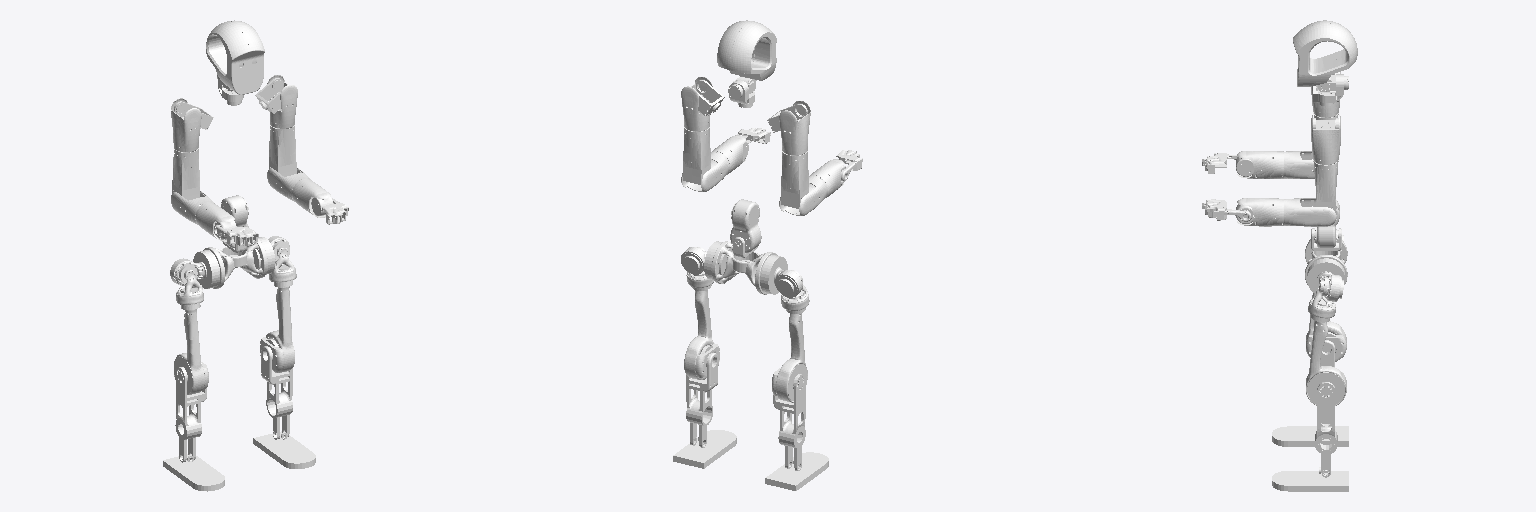
--- Facts derived from the render (not from the file) ---
The picture shows the robot from 3 angles, left to right: view 1: azimuth 30°, elevation 25°; view 2: azimuth 150°, elevation 25°; view 3: azimuth 270°, elevation 25°; orthographic projection.
Robot: Taks_T1 — 33 links, 32 joints (32 revolute); root link pelvis; default pose: every joint at zero.
Visible links, largest first — view 1: neck_pitch_link, pelvis, right_knee_link, left_knee_link, left_hip_yaw_link, right_hip_yaw_link, left_ankle_roll_link, right_ankle_roll_link, right_shoulder_yaw_link, left_shoulder_yaw_link, right_shoulder_roll_link, left_shoulder_roll_link (+10 smaller); view 2: neck_pitch_link, pelvis, right_knee_link, left_knee_link, left_hip_yaw_link, right_hip_yaw_link, left_ankle_roll_link, right_shoulder_yaw_link, left_shoulder_yaw_link, right_ankle_roll_link, right_shoulder_roll_link, waist_roll_link (+9 smaller); view 3: neck_pitch_link, left_hip_yaw_link, left_ankle_roll_link, left_knee_link, pelvis, left_elbow_link, right_ankle_roll_link, left_shoulder_roll_link, left_wrist_roll_link, right_wrist_roll_link, left_shoulder_yaw_link, right_elbow_link (+5 smaller).
Link boxes in pixels (x1,y1,x2,y2): neck_pitch_link: (206, 20, 264, 94); pelvis: (193, 237, 274, 288); right_knee_link: (175, 367, 206, 462); left_knee_link: (261, 346, 292, 439); left_hip_yaw_link: (260, 286, 294, 372); right_hip_yaw_link: (174, 309, 208, 394); left_ankle_roll_link: (253, 431, 315, 468); right_ankle_roll_link: (163, 454, 224, 491); right_shoulder_yaw_link: (172, 148, 199, 200); left_shoulder_yaw_link: (269, 125, 296, 176); right_shoulder_roll_link: (171, 98, 201, 151); left_shoulder_roll_link: (267, 75, 297, 128); neck_pitch_link: (717, 20, 776, 83); pelvis: (704, 241, 787, 294); right_knee_link: (773, 374, 805, 470); left_knee_link: (686, 353, 717, 447); left_hip_yaw_link: (684, 290, 719, 379); right_hip_yaw_link: (772, 313, 807, 402); left_ankle_roll_link: (673, 430, 736, 468); right_shoulder_yaw_link: (781, 151, 808, 208); left_shoulder_yaw_link: (683, 127, 710, 184); right_ankle_roll_link: (765, 452, 828, 490); right_shoulder_roll_link: (779, 101, 810, 154); waist_roll_link: (730, 199, 761, 252); neck_pitch_link: (1293, 20, 1357, 91); left_hip_yaw_link: (1306, 321, 1346, 405); left_ankle_roll_link: (1272, 471, 1348, 491); left_knee_link: (1315, 382, 1337, 477); pelvis: (1305, 234, 1347, 293); left_elbow_link: (1284, 198, 1336, 226); right_ankle_roll_link: (1272, 426, 1348, 446); left_shoulder_roll_link: (1311, 115, 1340, 164); left_wrist_roll_link: (1237, 198, 1283, 226); right_wrist_roll_link: (1237, 151, 1283, 178); left_shoulder_yaw_link: (1313, 160, 1338, 212); right_elbow_link: (1284, 151, 1314, 178).
Bounding box of the posed robot: 0.4406 × 0.4871 × 1.52 m (x, y, z).
Meshes: 33 distinct files referenced, 32 mesh visuals loaded (32 binary STL); not drawn: 1 (reference not matched to a file when rendering).

URDF robot description (Taks_T1):
<robot name="Taks_T1">
  <mujoco>
    <compiler meshdir="meshes" discardvisual="false"/>
  </mujoco>

  <!-- [CAUTION] uncomment when convert to mujoco -->
  <!-- <link name="world"></link>
  <joint name="floating_base_joint" type="floating">
    <parent link="world"/>
    <child link="pelvis"/>
  </joint> -->

  <link name="pelvis">
    <inertial>
      <origin xyz="0.0 -0.05192 0.0" rpy="0 0 0"/>
      <mass value="3.2"/>
      <inertia ixx="0.0166667" ixy="0.0" ixz="0.0" iyy="0.0201067" iyz="0.0" izz="0.0247733"/>
    </inertial>
    <visual>
      <origin xyz="0 0 0" rpy="0 0 0"/>
      <geometry>
        <mesh filename="meshes/pelvis.STL"/>
      </geometry>
      <material name="white">
        <color rgba="1.0 1.0 1.0 1.0"/>
      </material>
    </visual>
    <collision>
      <origin xyz="0 0 0" rpy="0 0 0"/>
      <geometry>
        <mesh filename="meshes/pelvis.STL"/>
      </geometry>
      <mujoco>
        <geom contype="2" conaffinity="1"/>
      </mujoco>
    </collision>
  </link>

  <!-- Legs -->
  <link name="left_hip_pitch_link">
    <inertial>
      <origin xyz="-0.02022 0.04885 -0.00359" rpy="0 0 0"/>
      <mass value="0.685"/>
      <inertia ixx="0.000776333" ixy="0.0" ixz="0.0" iyy="0.000570833" iyz="0.0" izz="0.000936167"/>
    </inertial>
    <visual>
      <origin xyz="0 0 0" rpy="0 0 0"/>
      <geometry>
        <mesh filename="meshes/left_hip_pitch_link.STL"/>
      </geometry>
      <material name="white">
        <color rgba="1.0 1.0 1.0 1.0"/>
      </material>
    </visual>
    <collision>
      <origin xyz="0 0 0" rpy="0 0 0"/>
      <geometry>
        <mesh filename="meshes/left_hip_pitch_link.STL"/>
      </geometry>
    </collision>
  </link>
  <joint name="left_hip_pitch_joint" type="revolute">
    <origin xyz="0.115 0.0 -0.0523" rpy="0.0 0.0 -1.5707963267948966"/>
    <parent link="pelvis"/>
    <child link="left_hip_pitch_link"/>
    <axis xyz="0.0 1.0 0.0"/>
    <limit lower="-2.5307" upper="2.8798" effort="120.0" velocity="7.33"/>
  </joint>

  <link name="left_hip_roll_link">
    <inertial>
      <origin xyz="-0.00668 -0.00027 -0.0695" rpy="0 0 0"/>
      <mass value="0.93"/>
      <inertia ixx="0.001612" ixy="0.0" ixz="0.0" iyy="0.001612" iyz="0.0" izz="0.000992"/>
    </inertial>
    <visual>
      <origin xyz="0 0 0" rpy="0 0 0"/>
      <geometry>
        <mesh filename="meshes/left_hip_roll_link.STL"/>
      </geometry>
      <material name="white">
        <color rgba="1.0 1.0 1.0 1.0"/>
      </material>
    </visual>
    <collision>
      <origin xyz="0 0 0" rpy="0 0 0"/>
      <geometry>
        <mesh filename="meshes/left_hip_roll_link.STL"/>
      </geometry>
    </collision>
  </link>
  <joint name="left_hip_roll_joint" type="revolute">
    <origin xyz="0.007945 0.053348 0.001351" rpy="0.0 -0.1745333851200459 0.0"/>
    <parent link="left_hip_pitch_link"/>
    <child link="left_hip_roll_link"/>
    <axis xyz="1.0 0.0 0.0"/>
    <limit lower="-0.5236" upper="2.9671" effort="97.0" velocity="4.19"/>
  </joint>

  <link name="left_hip_yaw_link">
    <inertial>
      <origin xyz="-0.048416 -0.008192 -0.200621" rpy="0 0 0"/>
      <mass value="1.74"/>
      <inertia ixx="0.014616" ixy="0.0" ixz="0.0" iyy="0.014616" iyz="0.0" izz="0.003132"/>
    </inertial>
    <visual>
      <origin xyz="0 0 0" rpy="0 0 0"/>
      <geometry>
        <mesh filename="meshes/left_hip_yaw_link.STL"/>
      </geometry>
      <material name="white">
        <color rgba="1.0 1.0 1.0 1.0"/>
      </material>
    </visual>
    <collision>
      <origin xyz="0 0 0" rpy="0 0 0"/>
      <geometry>
        <mesh filename="meshes/left_hip_yaw_link.STL"/>
      </geometry>
    </collision>
  </link>
  <joint name="left_hip_yaw_joint" type="revolute">
    <origin xyz="-0.008293 0.0 -0.10937" rpy="0 0 0"/>
    <parent link="left_hip_roll_link"/>
    <child link="left_hip_yaw_link"/>
    <axis xyz="0.0 0.0 1.0"/>
    <limit lower="-2.7576" upper="2.7576" effort="97.0" velocity="4.19"/>
  </joint>

  <link name="left_knee_link">
    <inertial>
      <origin xyz="0.0 -0.0248 -0.115572" rpy="0 0 0"/>
      <mass value="0.63"/>
      <inertia ixx="0.004977" ixy="0.0" ixz="0.0" iyy="0.004977" iyz="0.0" izz="0.000504"/>
    </inertial>
    <visual>
      <origin xyz="0 0 0" rpy="0 0 0"/>
      <geometry>
        <mesh filename="meshes/left_knee_link.STL"/>
      </geometry>
      <material name="white">
        <color rgba="1.0 1.0 1.0 1.0"/>
      </material>
    </visual>
    <collision>
      <origin xyz="0 0 0" rpy="0 0 0"/>
      <geometry>
        <mesh filename="meshes/left_knee_link.STL"/>
      </geometry>
    </collision>
  </link>
  <joint name="left_knee_joint" type="revolute">
    <origin xyz="-0.060138 0.016849 -0.23297" rpy="0.0 0.17453338512004613 0.0"/>
    <parent link="left_hip_yaw_link"/>
    <child link="left_knee_link"/>
    <axis xyz="0.0 1.0 0.0"/>
    <limit lower="-0.087267" upper="2.8798" effort="120.0" velocity="7.33"/>
  </joint>

  <link name="left_ankle_pitch_link">
    <inertial>
      <origin xyz="0.019984 0.0 0.0" rpy="0 0 0"/>
      <mass value="0.001837"/>
      <inertia ixx="1.6533e-07" ixy="0.0" ixz="0.0" iyy="1.6533e-07" iyz="0.0" izz="1.6533e-07"/>
    </inertial>
    <visual>
      <origin xyz="0 0 0" rpy="0 0 0"/>
      <geometry>
        <mesh filename="meshes/left_ankle_pitch_link.STL"/>
      </geometry>
      <material name="white">
        <color rgba="1.0 1.0 1.0 1.0"/>
      </material>
    </visual>
    <collision>
      <origin xyz="0 0 0" rpy="0 0 0"/>
      <geometry>
        <mesh filename="meshes/left_ankle_pitch_link.STL"/>
      </geometry>
    </collision>
  </link>
  <joint name="left_ankle_pitch_joint" type="revolute">
    <origin xyz="0.0 -0.015197 -0.28503" rpy="0 0 0"/>
    <parent link="left_knee_link"/>
    <child link="left_ankle_pitch_link"/>
    <axis xyz="0.0 1.0 0.0"/>
    <limit lower="-0.87267" upper="0.5236" effort="27.0" velocity="3.77"/>
  </joint>

  <link name="left_ankle_roll_link">
    <inertial>
      <origin xyz="0.025052 -0.005381 -0.04" rpy="0 0 0"/>
      <mass value="0.56"/>
      <inertia ixx="0.000415333" ixy="0.0" ixz="0.0" iyy="0.00146533" iyz="0.0" izz="0.00164733"/>
    </inertial>
    <visual>
      <origin xyz="0 0 0" rpy="0 0 0"/>
      <geometry>
        <mesh filename="meshes/left_ankle_roll_link.STL"/>
      </geometry>
      <material name="white">
        <color rgba="1.0 1.0 1.0 1.0"/>
      </material>
    </visual>
  </link>
  <joint name="left_ankle_roll_joint" type="revolute">
    <origin xyz="0.02 0.0 0.0" rpy="0 0 0"/>
    <parent link="left_ankle_pitch_link"/>
    <child link="left_ankle_roll_link"/>
    <axis xyz="1.0 0.0 0.0"/>
    <limit lower="-0.2618" upper="0.2618" effort="27.0" velocity="3.77"/>
  </joint>

  <link name="right_hip_pitch_link">
    <inertial>
      <origin xyz="-0.02022 -0.04886 -0.00359" rpy="0 0 0"/>
      <mass value="0.685"/>
      <inertia ixx="0.000776333" ixy="0.0" ixz="0.0" iyy="0.000570833" iyz="0.0" izz="0.000936167"/>
    </inertial>
    <visual>
      <origin xyz="0 0 0" rpy="0 0 0"/>
      <geometry>
        <mesh filename="meshes/right_hip_pitch_link.STL"/>
      </geometry>
      <material name="white">
        <color rgba="1.0 1.0 1.0 1.0"/>
      </material>
    </visual>
    <collision>
      <origin xyz="0 0 0" rpy="0 0 0"/>
      <geometry>
        <mesh filename="meshes/right_hip_pitch_link.STL"/>
      </geometry>
    </collision>
  </link>
  <joint name="right_hip_pitch_joint" type="revolute">
    <origin xyz="-0.115 0.0 -0.0523" rpy="0.0 0.0 -1.5707963267948966"/>
    <parent link="pelvis"/>
    <child link="right_hip_pitch_link"/>
    <axis xyz="0.0 1.0 0.0"/>
    <limit lower="-2.5307" upper="2.8798" effort="120.0" velocity="7.33"/>
  </joint>

  <link name="right_hip_roll_link">
    <inertial>
      <origin xyz="-0.00668 0.00027 -0.0695" rpy="0 0 0"/>
      <mass value="0.93"/>
      <inertia ixx="0.001612" ixy="0.0" ixz="0.0" iyy="0.001612" iyz="0.0" izz="0.000992"/>
    </inertial>
    <visual>
      <origin xyz="0 0 0" rpy="0 0 0"/>
      <geometry>
        <mesh filename="meshes/right_hip_roll_link.STL"/>
      </geometry>
      <material name="white">
        <color rgba="1.0 1.0 1.0 1.0"/>
      </material>
    </visual>
    <collision>
      <origin xyz="0 0 0" rpy="0 0 0"/>
      <geometry>
        <mesh filename="meshes/right_hip_roll_link.STL"/>
      </geometry>
    </collision>
  </link>
  <joint name="right_hip_roll_joint" type="revolute">
    <origin xyz="0.007945 -0.053348 0.001351" rpy="0.0 -0.1745333851200459 0.0"/>
    <parent link="right_hip_pitch_link"/>
    <child link="right_hip_roll_link"/>
    <axis xyz="1.0 0.0 0.0"/>
    <limit lower="-2.9671" upper="0.5236" effort="97.0" velocity="4.19"/>
  </joint>

  <link name="right_hip_yaw_link">
    <inertial>
      <origin xyz="-0.04842 0.008194 -0.200625" rpy="0 0 0"/>
      <mass value="1.74"/>
      <inertia ixx="0.014616" ixy="0.0" ixz="0.0" iyy="0.014616" iyz="0.0" izz="0.003132"/>
    </inertial>
    <visual>
      <origin xyz="0 0 0" rpy="0 0 0"/>
      <geometry>
        <mesh filename="meshes/right_hip_yaw_link.STL"/>
      </geometry>
      <material name="white">
        <color rgba="1.0 1.0 1.0 1.0"/>
      </material>
    </visual>
    <collision>
      <origin xyz="0 0 0" rpy="0 0 0"/>
      <geometry>
        <mesh filename="meshes/right_hip_yaw_link.STL"/>
      </geometry>
    </collision>
  </link>
  <joint name="right_hip_yaw_joint" type="revolute">
    <origin xyz="-0.008293 0.0 -0.10937" rpy="0 0 0"/>
    <parent link="right_hip_roll_link"/>
    <child link="right_hip_yaw_link"/>
    <axis xyz="0.0 0.0 1.0"/>
    <limit lower="-2.7576" upper="2.7576" effort="97.0" velocity="4.19"/>
  </joint>

  <link name="right_knee_link">
    <inertial>
      <origin xyz="0.0 0.0248 -0.115573" rpy="0 0 0"/>
      <mass value="0.63"/>
      <inertia ixx="0.004977" ixy="0.0" ixz="0.0" iyy="0.004977" iyz="0.0" izz="0.000504"/>
    </inertial>
    <visual>
      <origin xyz="0 0 0" rpy="0 0 0"/>
      <geometry>
        <mesh filename="meshes/right_knee_link.STL"/>
      </geometry>
      <material name="white">
        <color rgba="1.0 1.0 1.0 1.0"/>
      </material>
    </visual>
    <collision>
      <origin xyz="0 0 0" rpy="0 0 0"/>
      <geometry>
        <mesh filename="meshes/right_knee_link.STL"/>
      </geometry>
    </collision>
  </link>
  <joint name="right_knee_joint" type="revolute">
    <origin xyz="-0.060138 -0.016849 -0.23297" rpy="0.0 0.17453338512004613 0.0"/>
    <parent link="right_hip_yaw_link"/>
    <child link="right_knee_link"/>
    <axis xyz="0.0 1.0 0.0"/>
    <limit lower="-0.087267" upper="2.8798" effort="120.0" velocity="7.33"/>
  </joint>

  <link name="right_ankle_pitch_link">
    <inertial>
      <origin xyz="0.019984 0.0 0.0" rpy="0 0 0"/>
      <mass value="0.001837"/>
      <inertia ixx="1.6533e-07" ixy="0.0" ixz="0.0" iyy="1.6533e-07" iyz="0.0" izz="1.6533e-07"/>
    </inertial>
    <visual>
      <origin xyz="0 0 0" rpy="0 0 0"/>
      <geometry>
        <mesh filename="meshes/right_ankle_pitch_link.STL"/>
      </geometry>
      <material name="white">
        <color rgba="1.0 1.0 1.0 1.0"/>
      </material>
    </visual>
    <collision>
      <origin xyz="0 0 0" rpy="0 0 0"/>
      <geometry>
        <mesh filename="meshes/right_ankle_pitch_link.STL"/>
      </geometry>
    </collision>
  </link>
  <joint name="right_ankle_pitch_joint" type="revolute">
    <origin xyz="0.0 0.015197 -0.28503" rpy="0 0 0"/>
    <parent link="right_knee_link"/>
    <child link="right_ankle_pitch_link"/>
    <axis xyz="0.0 1.0 0.0"/>
    <limit lower="-0.87267" upper="0.5236" effort="27.0" velocity="3.77"/>
  </joint>

  <link name="right_ankle_roll_link">
    <inertial>
      <origin xyz="0.025052 0.005381 -0.04" rpy="0 0 0"/>
      <mass value="0.56"/>
      <inertia ixx="0.000415333" ixy="0.0" ixz="0.0" iyy="0.00146533" iyz="0.0" izz="0.00164733"/>
    </inertial>
    <visual>
      <origin xyz="0 0 0" rpy="0 0 0"/>
      <geometry>
        <mesh filename="meshes/right_ankle_roll_link.STL"/>
      </geometry>
      <material name="white">
        <color rgba="1.0 1.0 1.0 1.0"/>
      </material>
    </visual>
  </link>
  <joint name="right_ankle_roll_joint" type="revolute">
    <origin xyz="0.02 0.0 0.0" rpy="0 0 0"/>
    <parent link="right_ankle_pitch_link"/>
    <child link="right_ankle_roll_link"/>
    <axis xyz="1.0 0.0 0.0"/>
    <limit lower="-0.2618" upper="0.2618" effort="27.0" velocity="3.77"/>
  </joint>

  <!-- Upper Body -->
  <link name="waist_yaw_link">
    <inertial>
      <origin xyz="0.000694 3.7e-05 0.023535" rpy="0 0 0"/>
      <mass value="0.79"/>
      <inertia ixx="0.00073075" ixy="0.0" ixz="0.0" iyy="0.00073075" iyz="0.0" izz="0.0009875"/>
    </inertial>
    <visual>
      <origin xyz="0 0 0" rpy="0 0 0"/>
      <geometry>
        <mesh filename="meshes/waist_yaw_link.STL"/>
      </geometry>
      <material name="white">
        <color rgba="1.0 1.0 1.0 1.0"/>
      </material>
    </visual>
    <collision>
      <origin xyz="0 0 0" rpy="0 0 0"/>
      <geometry>
        <mesh filename="meshes/waist_yaw_link.STL"/>
      </geometry>
      <mujoco>
        <geom contype="2" conaffinity="1"/>
      </mujoco>
    </collision>
  </link>
  <joint name="waist_yaw_joint" type="revolute">
    <origin xyz="0.0 0.0 0.0" rpy="0.0 0.0 -1.5707963267948966"/>
    <parent link="pelvis"/>
    <child link="waist_yaw_link"/>
    <axis xyz="0.0 0.0 1.0"/>
    <limit lower="-2.618" upper="2.618" effort="97.0" velocity="4.19"/>
  </joint>

  <link name="waist_roll_link">
    <inertial>
      <origin xyz="-0.03647 0.001918 0.039525" rpy="0 0 0"/>
      <mass value="1.56"/>
      <inertia ixx="0.0026" ixy="0.0" ixz="0.0" iyy="0.0026" iyz="0.0" izz="0.0026"/>
    </inertial>
    <visual>
      <origin xyz="0 0 0" rpy="0 0 0"/>
      <geometry>
        <mesh filename="meshes/waist_roll_link.STL"/>
      </geometry>
      <material name="white">
        <color rgba="1.0 1.0 1.0 1.0"/>
      </material>
    </visual>
    <collision>
      <origin xyz="0 0 0" rpy="0 0 0"/>
      <geometry>
        <mesh filename="meshes/waist_roll_link.STL"/>
      </geometry>
      <mujoco>
        <geom contype="2" conaffinity="1"/>
      </mujoco>
    </collision>
  </link>
  <joint name="waist_roll_joint" type="revolute">
    <origin xyz="0.03813 3.7e-05 0.050906" rpy="0 0 0"/>
    <parent link="waist_yaw_link"/>
    <child link="waist_roll_link"/>
    <axis xyz="1.0 0.0 0.0"/>
    <limit lower="-0.52" upper="0.52" effort="97.0" velocity="4.19"/>
  </joint>

  <link name="torso_link">
    <inertial>
      <origin xyz="-0.000232 0.028443 0.216034" rpy="0 0 0"/>
      <mass value="2.01"/>
      <inertia ixx="0.041875" ixy="0.0" ixz="0.0" iyy="0.0372688" iyz="0.0" izz="0.0255437"/>
    </inertial>
    <visual>
      <origin xyz="0 0 0" rpy="0 0 0"/>
      <geometry>
        <mesh filename="meshes/waist_pitch_link.STL"/>
      </geometry>
      <material name="white">
        <color rgba="1.0 1.0 1.0 1.0"/>
      </material>
    </visual>
    <collision>
      <origin xyz="0 0 0" rpy="0 0 0"/>
      <geometry>
        <mesh filename="meshes/waist_pitch_link.STL"/>
      </geometry>
      <mujoco>
        <geom contype="2" conaffinity="1"/>
      </mujoco>
    </collision>
  </link>
  <joint name="waist_pitch_joint" type="revolute">
    <origin xyz="-0.03813 -0.032925 0.079963" rpy="0 0 0"/>
    <parent link="waist_roll_link"/>
    <child link="torso_link"/>
    <axis xyz="0.0 1.0 0.0"/>
    <limit lower="-0.52" upper="0.52" effort="97.0" velocity="4.19"/>
  </joint>

  <!-- Arms -->
  <link name="left_shoulder_pitch_link">
    <inertial>
      <origin xyz="-0.003513 0.038593 0.000147" rpy="0 0 0"/>
      <mass value="0.24"/>
      <inertia ixx="0.000178" ixy="0.0" ixz="0.0" iyy="0.000122" iyz="0.0" izz="0.0002"/>
    </inertial>
    <visual>
      <origin xyz="0 0 0" rpy="0 0 0"/>
      <geometry>
        <mesh filename="meshes/left_shoulder_pitch_link.STL"/>
      </geometry>
      <material name="white">
        <color rgba="1.0 1.0 1.0 1.0"/>
      </material>
    </visual>
    <collision>
      <origin xyz="0 0 0" rpy="0 0 0"/>
      <geometry>
        <mesh filename="meshes/left_shoulder_pitch_link.STL"/>
      </geometry>
    </collision>
  </link>
  <joint name="left_shoulder_pitch_joint" type="revolute">
    <origin xyz="0.0 0.13582 0.33654" rpy="0.5235985985475524 0.0 0.0"/>
    <parent link="torso_link"/>
    <child link="left_shoulder_pitch_link"/>
    <axis xyz="0.0 1.0 0.0"/>
    <limit lower="-3.0" upper="2.0" effort="27.0" velocity="3.77"/>
  </joint>

  <link name="left_shoulder_roll_link">
    <inertial>
      <origin xyz="-0.034364 0.004091 -0.054537" rpy="0 0 0"/>
      <mass value="0.92"/>
      <inertia ixx="0.00157167" ixy="0.0" ixz="0.0" iyy="0.00178633" iyz="0.0" izz="0.000766667"/>
    </inertial>
    <visual>
      <origin xyz="0 0 0" rpy="0 0 0"/>
      <geometry>
        <mesh filename="meshes/left_shoulder_roll_link.STL"/>
      </geometry>
      <material name="white">
        <color rgba="1.0 1.0 1.0 1.0"/>
      </material>
    </visual>
    <collision>
      <origin xyz="0 0 0" rpy="0 0 0"/>
      <geometry>
        <mesh filename="meshes/left_shoulder_roll_link.STL"/>
      </geometry>
    </collision>
  </link>
  <joint name="left_shoulder_roll_joint" type="revolute">
    <origin xyz="0.03476 0.0835 0.000425" rpy="-0.5235985985475524 0.0 0.0"/>
    <parent link="left_shoulder_pitch_link"/>
    <child link="left_shoulder_roll_link"/>
    <axis xyz="1.0 0.0 0.0"/>
    <limit lower="-0.2" upper="2.2515" effort="27.0" velocity="3.77"/>
  </joint>

  <link name="left_shoulder_yaw_link">
    <inertial>
      <origin xyz="0.000365 -7.2e-05 -0.086229" rpy="0 0 0"/>
      <mass value="0.625"/>
      <inertia ixx="0.0019375" ixy="0.0" ixz="0.0" iyy="0.0019375" iyz="0.0" izz="0.0005"/>
    </inertial>
    <visual>
      <origin xyz="0 0 0" rpy="0 0 0"/>
      <geometry>
        <mesh filename="meshes/left_shoulder_yaw_link.STL"/>
      </geometry>
      <material name="white">
        <color rgba="1.0 1.0 1.0 1.0"/>
      </material>
    </visual>
    <collision>
      <origin xyz="0 0 0" rpy="0 0 0"/>
      <geometry>
        <mesh filename="meshes/left_shoulder_yaw_link.STL"/>
      </geometry>
      <mujoco>
        <geom contype="8" conaffinity="1"/>
      </mujoco>
    </collision>
  </link>
  <joint name="left_shoulder_yaw_joint" type="revolute">
    <origin xyz="-0.034375 0.0 -0.12" rpy="0 0 0"/>
    <parent link="left_shoulder_roll_link"/>
    <child link="left_shoulder_yaw_link"/>
    <axis xyz="0.0 0.0 1.0"/>
    <limit lower="-2.58" upper="2.58" effort="27.0" velocity="3.77"/>
  </joint>

  <link name="left_elbow_link">
    <inertial>
      <origin xyz="0.060258 -0.018902 -0.00551" rpy="0 0 0"/>
      <mass value="0.552"/>
      <inertia ixx="0.00094645" ixy="0.0" ixz="0.0" iyy="0.00094645" iyz="0.0" izz="0.0003381"/>
    </inertial>
    <visual>
      <origin xyz="0 0 0" rpy="0 0 0"/>
      <geometry>
        <mesh filename="meshes/left_elbow_link.STL"/>
      </geometry>
      <material name="white">
        <color rgba="1.0 1.0 1.0 1.0"/>
      </material>
    </visual>
    <collision>
      <origin xyz="0 0 0" rpy="0 0 0"/>
      <geometry>
        <mesh filename="meshes/left_elbow_link.STL"/>
      </geometry>
      <mujoco>
        <geom contype="8" conaffinity="1"/>
      </mujoco>
    </collision>
  </link>
  <joint name="left_elbow_joint" type="revolute">
    <origin xyz="0.000364 0.029113 -0.18099" rpy="0 0 0"/>
    <parent link="left_shoulder_yaw_link"/>
    <child link="left_elbow_link"/>
    <axis xyz="0.0 1.0 0.0"/>
    <limit lower="-0.7" upper="1.57" effort="27.0" velocity="3.77"/>
  </joint>

  <link name="left_wrist_roll_link">
    <inertial>
      <origin xyz="0.059349 0.0 0.000843" rpy="0 0 0"/>
      <mass value="0.508"/>
      <inertia ixx="0.0007239" ixy="0.0" ixz="0.0" iyy="0.0007239" iyz="0.0" izz="0.0002286"/>
    </inertial>
    <visual>
      <origin xyz="0 0 0" rpy="0 0 0"/>
      <geometry>
        <mesh filename="meshes/left_wrist_roll_link.STL"/>
      </geometry>
      <material name="white">
        <color rgba="1.0 1.0 1.0 1.0"/>
      </material>
    </visual>
    <collision>
      <origin xyz="0 0 0" rpy="0 0 0"/>
      <geometry>
        <mesh filename="meshes/left_wrist_roll_link.STL"/>
      </geometry>
      <mujoco>
        <geom contype="8" conaffinity="1"/>
      </mujoco>
    </collision>
  </link>
  <joint name="left_wrist_roll_joint" type="revolute">
    <origin xyz="0.13 -0.029125 0.0" rpy="0 0 0"/>
    <parent link="left_elbow_link"/>
    <child link="left_wrist_roll_link"/>
    <axis xyz="1.0 0.0 0.0"/>
    <limit lower="-2.67" upper="2.67" effort="7.0" velocity="12.57"/>
  </joint>

  <link name="left_wrist_yaw_link">
    <inertial>
      <origin xyz="0.0 0.001805 0.034219" rpy="0 0 0"/>
      <mass value="0.37"/>
      <inertia ixx="0.000228167" ixy="0.0" ixz="0.0" iyy="0.000228167" iyz="0.0" izz="0.000154167"/>
    </inertial>
    <visual>
      <origin xyz="0 0 0" rpy="0 0 0"/>
      <geometry>
        <mesh filename="meshes/left_wrist_yaw_link.STL"/>
      </geometry>
      <material name="white">
        <color rgba="1.0 1.0 1.0 1.0"/>
      </material>
    </visual>
    <collision>
      <origin xyz="0 0 0" rpy="0 0 0"/>
      <geometry>
        <mesh filename="meshes/left_wrist_yaw_link.STL"/>
      </geometry>
      <mujoco>
        <geom contype="8" conaffinity="1"/>
      </mujoco>
    </collision>
  </link>
  <joint name="left_wrist_yaw_joint" type="revolute">
    <origin xyz="0.121 0.0 -0.0333" rpy="0 0 0"/>
    <parent link="left_wrist_roll_link"/>
    <child link="left_wrist_yaw_link"/>
    <axis xyz="0.0 0.0 1.0"/>
    <limit lower="-0.9" upper="0.9" effort="7.0" velocity="12.57"/>
  </joint>

  <link name="left_wrist_pitch_link">
    <inertial>
      <origin xyz="0.076857 -0.017165 0.011311" rpy="0 0 0"/>
      <mass value="0.28"/>
      <inertia ixx="0.000121333" ixy="0.0" ixz="0.0" iyy="0.000270667" iyz="0.0" izz="0.000317333"/>
    </inertial>
    <visual>
      <origin xyz="0 0 0" rpy="0 0 0"/>
      <geometry>
        <mesh filename="meshes/left_wrist_pitch_link.STL"/>
      </geometry>
      <material name="white">
        <color rgba="1.0 1.0 1.0 1.0"/>
      </material>
    </visual>
    <collision>
      <origin xyz="0 0 0" rpy="0 0 0"/>
      <geometry>
        <mesh filename="meshes/left_wrist_pitch_link.STL"/>
      </geometry>
      <mujoco>
        <geom contype="8" conaffinity="1"/>
      </mujoco>
    </collision>
  </link>
  <joint name="left_wrist_pitch_joint" type="revolute">
    <origin xyz="0.0 0.022502 0.033299" rpy="0 0 0"/>
    <parent link="left_wrist_yaw_link"/>
    <child link="left_wrist_pitch_link"/>
    <axis xyz="0.0 1.0 0.0"/>
    <limit lower="-0.9" upper="0.9" effort="7.0" velocity="12.57"/>
  </joint>

  <link name="right_shoulder_pitch_link">
    <inertial>
      <origin xyz="-0.003513 -0.038593 0.000147" rpy="0 0 0"/>
      <mass value="0.24"/>
      <inertia ixx="0.000178" ixy="0.0" ixz="0.0" iyy="0.000122" iyz="0.0" izz="0.0002"/>
    </inertial>
    <visual>
      <origin xyz="0 0 0" rpy="0 0 0"/>
      <geometry>
        <mesh filename="meshes/right_shoulder_pitch_link.STL"/>
      </geometry>
      <material name="white">
        <color rgba="1.0 1.0 1.0 1.0"/>
      </material>
    </visual>
    <collision>
      <origin xyz="0 0 0" rpy="0 0 0"/>
      <geometry>
        <mesh filename="meshes/right_shoulder_pitch_link.STL"/>
      </geometry>
    </collision>
  </link>
  <joint name="right_shoulder_pitch_joint" type="revolute">
    <origin xyz="0.0 -0.069974 0.33654" rpy="-0.5235985985475524 0.0 0.0"/>
    <parent link="torso_link"/>
    <child link="right_shoulder_pitch_link"/>
    <axis xyz="0.0 1.0 0.0"/>
    <limit lower="-2.0" upper="2.0" effort="27.0" velocity="3.77"/>
  </joint>

  <link name="right_shoulder_roll_link">
    <inertial>
      <origin xyz="-0.027363 -0.004095 -0.054537" rpy="0 0 0"/>
      <mass value="0.92"/>
      <inertia ixx="0.00157167" ixy="0.0" ixz="0.0" iyy="0.00178633" iyz="0.0" izz="0.000766667"/>
    </inertial>
    <visual>
      <origin xyz="0 0 0" rpy="0 0 0"/>
      <geometry>
        <mesh filename="meshes/right_shoulder_roll_link.STL"/>
      </geometry>
      <material name="white">
        <color rgba="1.0 1.0 1.0 1.0"/>
      </material>
    </visual>
    <collision>
      <origin xyz="0 0 0" rpy="0 0 0"/>
      <geometry>
        <mesh filename="meshes/right_shoulder_roll_link.STL"/>
      </geometry>
    </collision>
  </link>
  <joint name="right_shoulder_roll_joint" type="revolute">
    <origin xyz="0.02776 -0.0835 0.000425" rpy="0.5235985985475524 0.0 0.0"/>
    <parent link="right_shoulder_pitch_link"/>
    <child link="right_shoulder_roll_link"/>
    <axis xyz="1.0 0.0 0.0"/>
    <limit lower="-2.2515" upper="0.2" effort="27.0" velocity="3.77"/>
  </joint>

  <link name="right_shoulder_yaw_link">
    <inertial>
      <origin xyz="0.000364 6.6e-05 -0.08623" rpy="0 0 0"/>
      <mass value="0.625"/>
      <inertia ixx="0.0019375" ixy="0.0" ixz="0.0" iyy="0.0019375" iyz="0.0" izz="0.0005"/>
    </inertial>
    <visual>
      <origin xyz="0 0 0" rpy="0 0 0"/>
      <geometry>
        <mesh filename="meshes/right_shoulder_yaw_link.STL"/>
      </geometry>
      <material name="white">
        <color rgba="1.0 1.0 1.0 1.0"/>
      </material>
    </visual>
    <collision>
      <origin xyz="0 0 0" rpy="0 0 0"/>
      <geometry>
        <mesh filename="meshes/right_shoulder_yaw_link.STL"/>
      </geometry>
      <mujoco>
        <geom contype="16" conaffinity="1"/>
      </mujoco>
    </collision>
  </link>
  <joint name="right_shoulder_yaw_joint" type="revolute">
    <origin xyz="-0.027375 0.0 -0.12" rpy="0 0 0"/>
    <parent link="right_shoulder_roll_link"/>
    <child link="right_shoulder_yaw_link"/>
    <axis xyz="0.0 0.0 1.0"/>
    <limit lower="-2.58" upper="2.58" effort="27.0" velocity="3.77"/>
  </joint>

  <link name="right_elbow_link">
    <inertial>
      <origin xyz="0.060603 -0.027325 -0.005367" rpy="0 0 0"/>
      <mass value="0.552"/>
      <inertia ixx="0.00094645" ixy="0.0" ixz="0.0" iyy="0.00094645" iyz="0.0" izz="0.0003381"/>
    </inertial>
    <visual>
      <origin xyz="0 0 0" rpy="0 0 0"/>
      <geometry>
        <mesh filename="meshes/right_elbow_link.STL"/>
      </geometry>
      <material name="white">
        <color rgba="1.0 1.0 1.0 1.0"/>
      </material>
    </visual>
    <collision>
      <origin xyz="0 0 0" rpy="0 0 0"/>
      <geometry>
        <mesh filename="meshes/right_elbow_link.STL"/>
      </geometry>
      <mujoco>
        <geom contype="16" conaffinity="1"/>
      </mujoco>
    </collision>
  </link>
  <joint name="right_elbow_joint" type="revolute">
    <origin xyz="0.000364 0.027375 -0.18099" rpy="0 0 0"/>
    <parent link="right_shoulder_yaw_link"/>
    <child link="right_elbow_link"/>
    <axis xyz="0.0 1.0 0.0"/>
    <limit lower="-0.7" upper="1.57" effort="27.0" velocity="3.77"/>
  </joint>

  <link name="right_wrist_roll_link">
    <inertial>
      <origin xyz="0.059331 0.0 0.000847" rpy="0 0 0"/>
      <mass value="0.508"/>
      <inertia ixx="0.0007239" ixy="0.0" ixz="0.0" iyy="0.0007239" iyz="0.0" izz="0.0002286"/>
    </inertial>
    <visual>
      <origin xyz="0 0 0" rpy="0 0 0"/>
      <geometry>
        <mesh filename="meshes/right_wrist_roll_link.STL"/>
      </geometry>
      <material name="white">
        <color rgba="1.0 1.0 1.0 1.0"/>
      </material>
    </visual>
    <collision>
      <origin xyz="0 0 0" rpy="0 0 0"/>
      <geometry>
        <mesh filename="meshes/right_wrist_roll_link.STL"/>
      </geometry>
      <mujoco>
        <geom contype="16" conaffinity="1"/>
      </mujoco>
    </collision>
  </link>
  <joint name="right_wrist_roll_joint" type="revolute">
    <origin xyz="0.13 -0.027375 0.0" rpy="0 0 0"/>
    <parent link="right_elbow_link"/>
    <child link="right_wrist_roll_link"/>
    <axis xyz="1.0 0.0 0.0"/>
    <limit lower="-2.67" upper="2.67" effort="7.0" velocity="12.57"/>
  </joint>

  <link name="right_wrist_yaw_link">
    <inertial>
      <origin xyz="0.0 -0.001803 0.034219" rpy="0 0 0"/>
      <mass value="0.37"/>
      <inertia ixx="0.000228167" ixy="0.0" ixz="0.0" iyy="0.000228167" iyz="0.0" izz="0.000154167"/>
    </inertial>
    <visual>
      <origin xyz="0 0 0" rpy="0 0 0"/>
      <geometry>
        <mesh filename="meshes/right_wrist_yaw_link.STL"/>
      </geometry>
      <material name="white">
        <color rgba="1.0 1.0 1.0 1.0"/>
      </material>
    </visual>
    <collision>
      <origin xyz="0 0 0" rpy="0 0 0"/>
      <geometry>
        <mesh filename="meshes/right_wrist_yaw_link.STL"/>
      </geometry>
      <mujoco>
        <geom contype="16" conaffinity="1"/>
      </mujoco>
    </collision>
  </link>
  <joint name="right_wrist_yaw_joint" type="revolute">
    <origin xyz="0.121 0.0 -0.0333" rpy="0 0 0"/>
    <parent link="right_wrist_roll_link"/>
    <child link="right_wrist_yaw_link"/>
    <axis xyz="0.0 0.0 1.0"/>
    <limit lower="-0.9" upper="0.9" effort="7.0" velocity="12.57"/>
  </joint>

  <link name="right_wrist_pitch_link">
    <inertial>
      <origin xyz="0.076858 0.017168 0.01131" rpy="0 0 0"/>
      <mass value="0.28"/>
      <inertia ixx="0.000121333" ixy="0.0" ixz="0.0" iyy="0.000270667" iyz="0.0" izz="0.000317333"/>
    </inertial>
    <visual>
      <origin xyz="0 0 0" rpy="0 0 0"/>
      <geometry>
        <mesh filename="meshes/right_wrist_pitch_link.STL"/>
      </geometry>
      <material name="white">
        <color rgba="1.0 1.0 1.0 1.0"/>
      </material>
    </visual>
    <collision>
      <origin xyz="0 0 0" rpy="0 0 0"/>
      <geometry>
        <mesh filename="meshes/right_wrist_pitch_link.STL"/>
      </geometry>
      <mujoco>
        <geom contype="16" conaffinity="1"/>
      </mujoco>
    </collision>
  </link>
  <joint name="right_wrist_pitch_joint" type="revolute">
    <origin xyz="0.0 -0.0225 0.0333" rpy="0 0 0"/>
    <parent link="right_wrist_yaw_link"/>
    <child link="right_wrist_pitch_link"/>
    <axis xyz="0.0 1.0 0.0"/>
    <limit lower="-0.9" upper="0.9" effort="7.0" velocity="12.57"/>
  </joint>

  <!-- Neck -->
  <link name="neck_yaw_link">
    <inertial>
      <origin xyz="-0.026005 0.0 0.044508" rpy="0 0 0"/>
      <mass value="0.4"/>
      <inertia ixx="0.000483333" ixy="0.0" ixz="0.0" iyy="0.000483333" iyz="0.0" izz="0.000426667"/>
    </inertial>
    <visual>
      <origin xyz="0 0 0" rpy="0 0 0"/>
      <geometry>
        <mesh filename="meshes/neck_yaw_link.STL"/>
      </geometry>
      <material name="white">
        <color rgba="1.0 1.0 1.0 1.0"/>
      </material>
    </visual>
    <collision>
      <origin xyz="0 0 0" rpy="0 0 0"/>
      <geometry>
        <mesh filename="meshes/neck_yaw_link.STL"/>
      </geometry>
      <mujoco>
        <geom contype="4" conaffinity="1"/>
      </mujoco>
    </collision>
  </link>
  <joint name="neck_yaw_joint" type="revolute">
    <origin xyz="0.0 0.032906 0.37165" rpy="6.399999997815467e-05 0.0 0.0"/>
    <parent link="torso_link"/>
    <child link="neck_yaw_link"/>
    <axis xyz="0.0 0.0 1.0"/>
    <limit lower="-1.57" upper="1.57" effort="3.0" velocity="15.71"/>
  </joint>

  <link name="neck_roll_link">
    <inertial>
      <origin xyz="0.05706 -0.000635 0.0" rpy="0 0 0"/>
      <mass value="0.026"/>
      <inertia ixx="1.04e-05" ixy="0.0" ixz="0.0" iyy="1.04e-05" iyz="0.0" izz="5.2e-06"/>
    </inertial>
    <visual>
      <origin xyz="0 0 0" rpy="0 0 0"/>
      <geometry>
        <mesh filename="meshes/neck_roll_link.STL"/>
      </geometry>
      <material name="white">
        <color rgba="1.0 1.0 1.0 1.0"/>
      </material>
    </visual>
    <collision>
      <origin xyz="0 0 0" rpy="0 0 0"/>
      <geometry>
        <mesh filename="meshes/neck_roll_link.STL"/>
      </geometry>
      <mujoco>
        <geom contype="4" conaffinity="1"/>
      </mujoco>
    </collision>
  </link>
  <joint name="neck_roll_joint" type="revolute">
    <origin xyz="-0.0719 0.0 0.0708" rpy="0 0 0"/>
    <parent link="neck_yaw_link"/>
    <child link="neck_roll_link"/>
    <axis xyz="1.0 0.0 0.0"/>
    <limit lower="-0.873" upper="0.873" effort="3.0" velocity="15.71"/>
  </joint>

  <link name="neck_pitch_link">
    <inertial>
      <origin xyz="0.009314 -0.020599 0.085269" rpy="0 0 0"/>
      <mass value="0.6"/>
      <inertia ixx="0.001845" ixy="0.0" ixz="0.0" iyy="0.001845" iyz="0.0" izz="0.00144"/>
    </inertial>
    <visual>
      <origin xyz="0 0 0" rpy="0 0 0"/>
      <geometry>
        <mesh filename="meshes/neck_pitch_link.STL"/>
      </geometry>
      <material name="white">
        <color rgba="1.0 1.0 1.0 1.0"/>
      </material>
    </visual>
    <collision>
      <origin xyz="0 0 0" rpy="0 0 0"/>
      <geometry>
        <mesh filename="meshes/neck_pitch_link.STL"/>
      </geometry>
      <mujoco>
        <geom contype="4" conaffinity="1"/>
      </mujoco>
    </collision>
  </link>
  <joint name="neck_pitch_joint" type="revolute">
    <origin xyz="0.0719 0.02095 0.0" rpy="0 0 0"/>
    <parent link="neck_roll_link"/>
    <child link="neck_pitch_link"/>
    <axis xyz="0.0 1.0 0.0"/>
    <limit lower="-0.873" upper="0.873" effort="3.0" velocity="15.71"/>
  </joint>

</robot>
